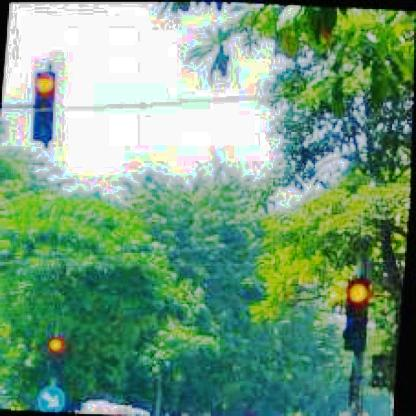Traffic Light -Red-: (28, 71, 57, 142), (344, 279, 370, 351)
